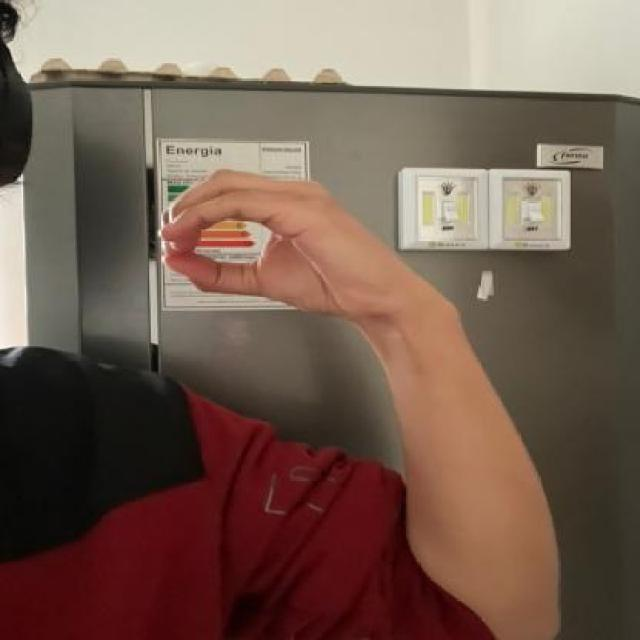O: (156, 160, 409, 342)
